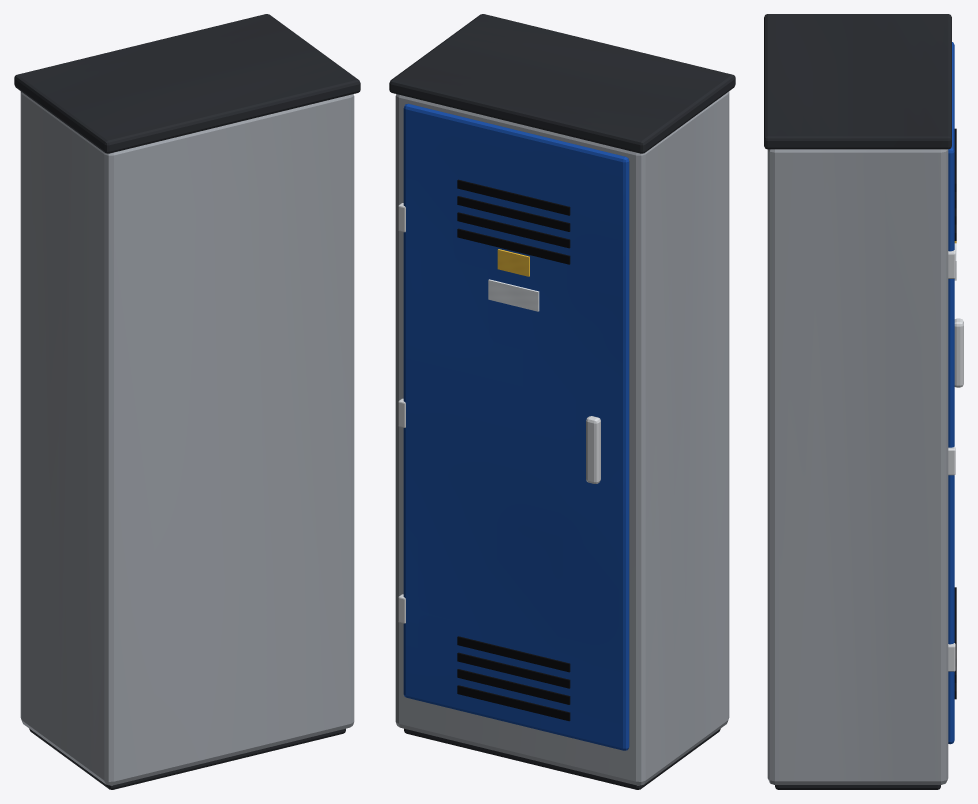
File: Locker.glb
3 views of the same model, side by side, from view 1: azimuth 30°, elevation 25°; view 2: azimuth 150°, elevation 25°; view 3: azimuth 270°, elevation 25° (orthographic).
Visible parts, largest first — view 1: Cabinet; view 2: Door, Cabinet; view 3: Cabinet, Door.
Boxes of the visible parts, box(x1,y1,x2,y2) form: Cabinet: box(14, 14, 360, 789); Door: box(398, 103, 629, 750); Cabinet: box(389, 14, 735, 789); Cabinet: box(764, 14, 951, 789); Door: box(948, 42, 963, 744).
Bounding box in the file's own units: 0.82 × 2.01 × 0.553.
2 materials, 1 textured.
